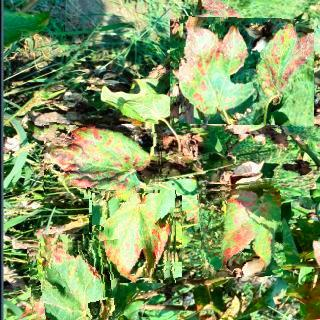blight: (178, 9, 304, 135), (43, 125, 162, 201), (198, 181, 282, 277), (91, 193, 178, 280), (28, 239, 119, 320)
